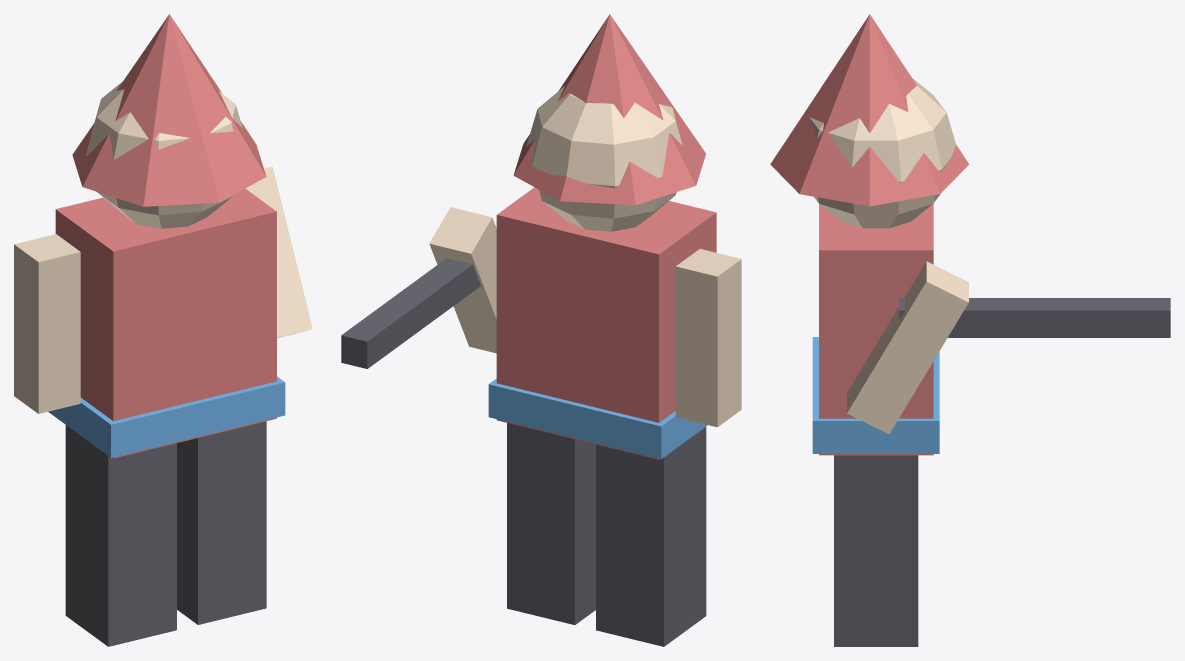
File: gunner.glb
3 renders of one model, left to right at view 1: azimuth 30°, elevation 25°; view 2: azimuth 150°, elevation 25°; view 3: azimuth 270°, elevation 25°, orthographic.
Parts seen in each view (by area): view 1: gunner; view 2: gunner; view 3: gunner.
Boxes of the visible parts, bbox=[...] form: gunner: bbox=[14, 14, 312, 646]; gunner: bbox=[341, 14, 741, 646]; gunner: bbox=[770, 14, 1170, 646].
Size of the model in its own units: 0.95 by 2.07 by 1.26.
